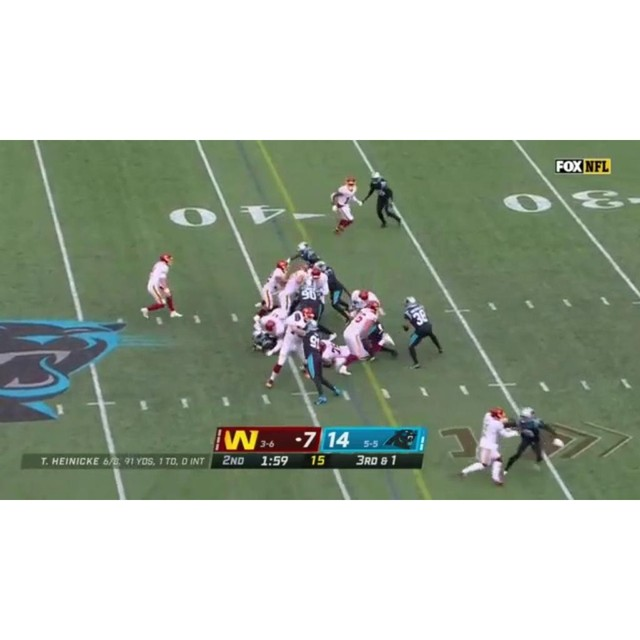american-football-player: (262, 306, 317, 391), (458, 408, 514, 485), (334, 299, 382, 376), (401, 295, 443, 370), (504, 407, 549, 476), (304, 330, 345, 404), (141, 253, 182, 320), (361, 173, 402, 230), (316, 260, 353, 322), (330, 176, 362, 236), (256, 260, 290, 312), (277, 264, 311, 313)
